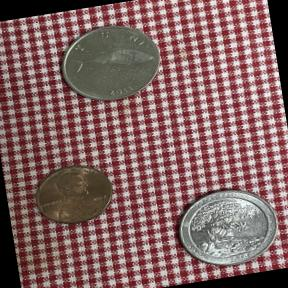coin: (44, 12, 174, 116), (166, 176, 286, 277), (20, 152, 125, 236)
